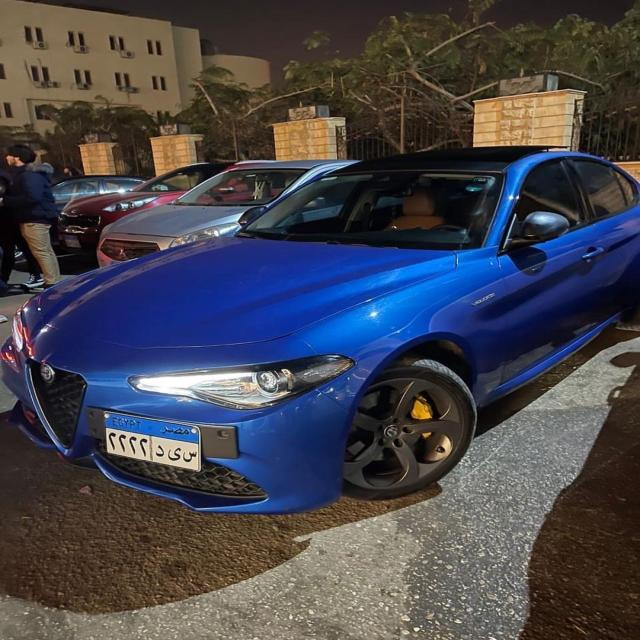License Plate: (100, 411, 202, 474)
